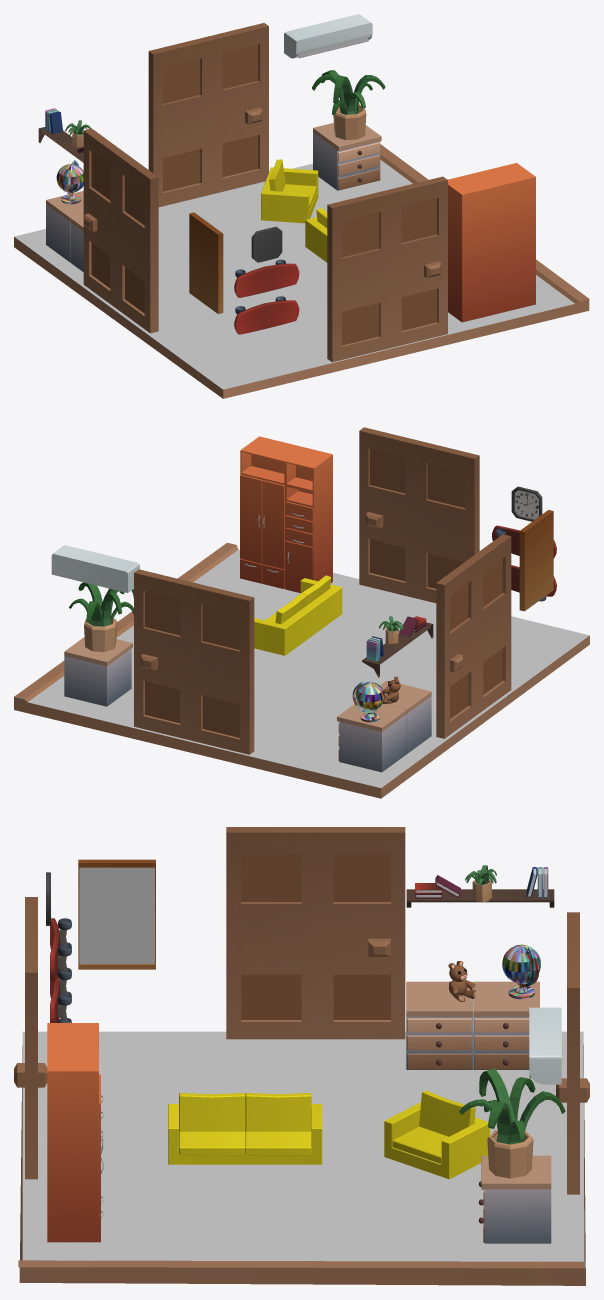
File: SALON.fbx
3 renders of one model, top to bottom at view 1: azimuth 30°, elevation 25°; view 2: azimuth 150°, elevation 25°; view 3: azimuth 270°, elevation 25°, orthographic. The views are drawn at different scales.
Visible parts, largest first — view 1: suelo3, puerta19, puerta21, armario2, puerta17, fombra4, mesita_con_planta1, sofas1, skeate1, comod_con_jugere_y_globus1, cuadro4, aire1 (+2 smaller); view 2: suelo3, puerta21, puerta19, armario2, puerta17, fombra4, comod_con_jugere_y_globus1, mesita_con_planta1, sofas1, cuadro4, aire1, estanteria4 (+2 smaller); view 3: suelo3, puerta17, fombra4, sofas1, comod_con_jugere_y_globus1, armario2, mesita_con_planta1, cuadro4, puerta19, puerta21, estanteria4, aire1 (+1 smaller).
Part boxes in pixels (box(x1,y1,x2,y2)): suelo3: box(14, 144, 589, 398); puerta19: box(327, 176, 447, 362); puerta21: box(148, 23, 268, 207); armario2: box(448, 163, 535, 322); puerta17: box(83, 128, 158, 333); fombra4: box(158, 180, 344, 313); mesita_con_planta1: box(312, 70, 385, 190); sofas1: box(261, 159, 327, 262); skeate1: box(234, 259, 299, 334); comod_con_jugere_y_globus1: box(46, 160, 83, 271); cuadro4: box(189, 212, 223, 313); aire1: box(284, 14, 372, 58); suelo3: box(14, 542, 589, 798); puerta21: box(134, 569, 254, 754); puerta19: box(359, 427, 479, 603); armario2: box(240, 436, 332, 592); puerta17: box(436, 534, 511, 738); fombra4: box(254, 588, 436, 732); comod_con_jugere_y_globus1: box(337, 676, 431, 772); mesita_con_planta1: box(64, 582, 133, 706); sofas1: box(254, 575, 342, 655); cuadro4: box(519, 510, 553, 611); aire1: box(51, 545, 139, 592); estanteria4: box(362, 616, 433, 677); suelo3: box(18, 1031, 585, 1285); puerta17: box(226, 827, 405, 1039); fombra4: box(143, 1073, 511, 1190); sofas1: box(168, 1090, 489, 1179); comod_con_jugere_y_globus1: box(406, 944, 540, 1069); armario2: box(47, 1023, 103, 1242); mesita_con_planta1: box(459, 1068, 565, 1243); cuadro4: box(78, 859, 155, 969); puerta19: box(14, 897, 47, 1179); puerta21: box(556, 912, 589, 1194); estanteria4: box(406, 865, 554, 907); aire1: box(529, 1007, 561, 1084).
Size of the model in its own units: 831 by 353 by 835.
